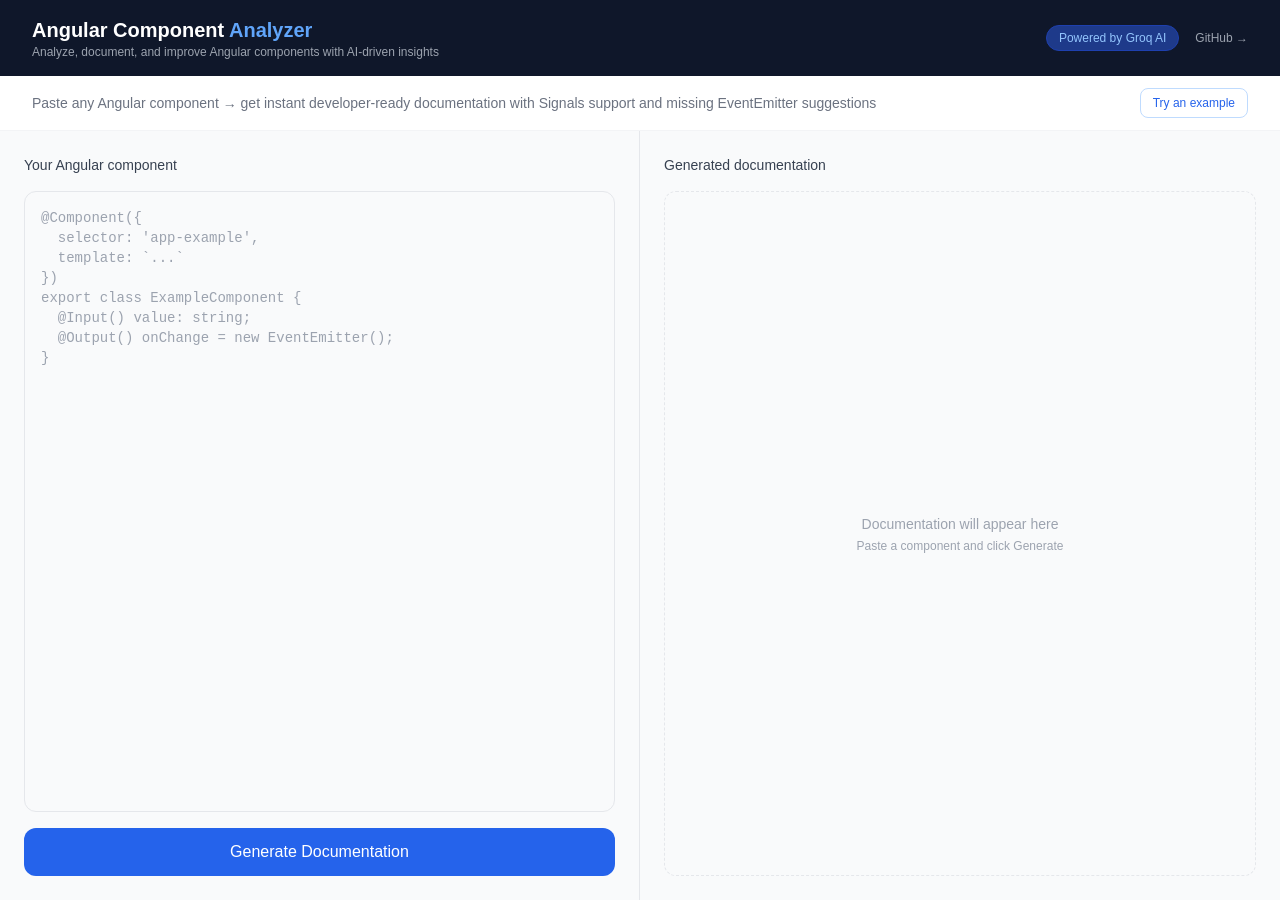
Test: Angular Component Analyzer › shows error when code is not an Angular component
Replace the text in the text box with placeholder "@Component" with "const x = 1;". click: (320, 502)
box: [24, 191, 615, 812]
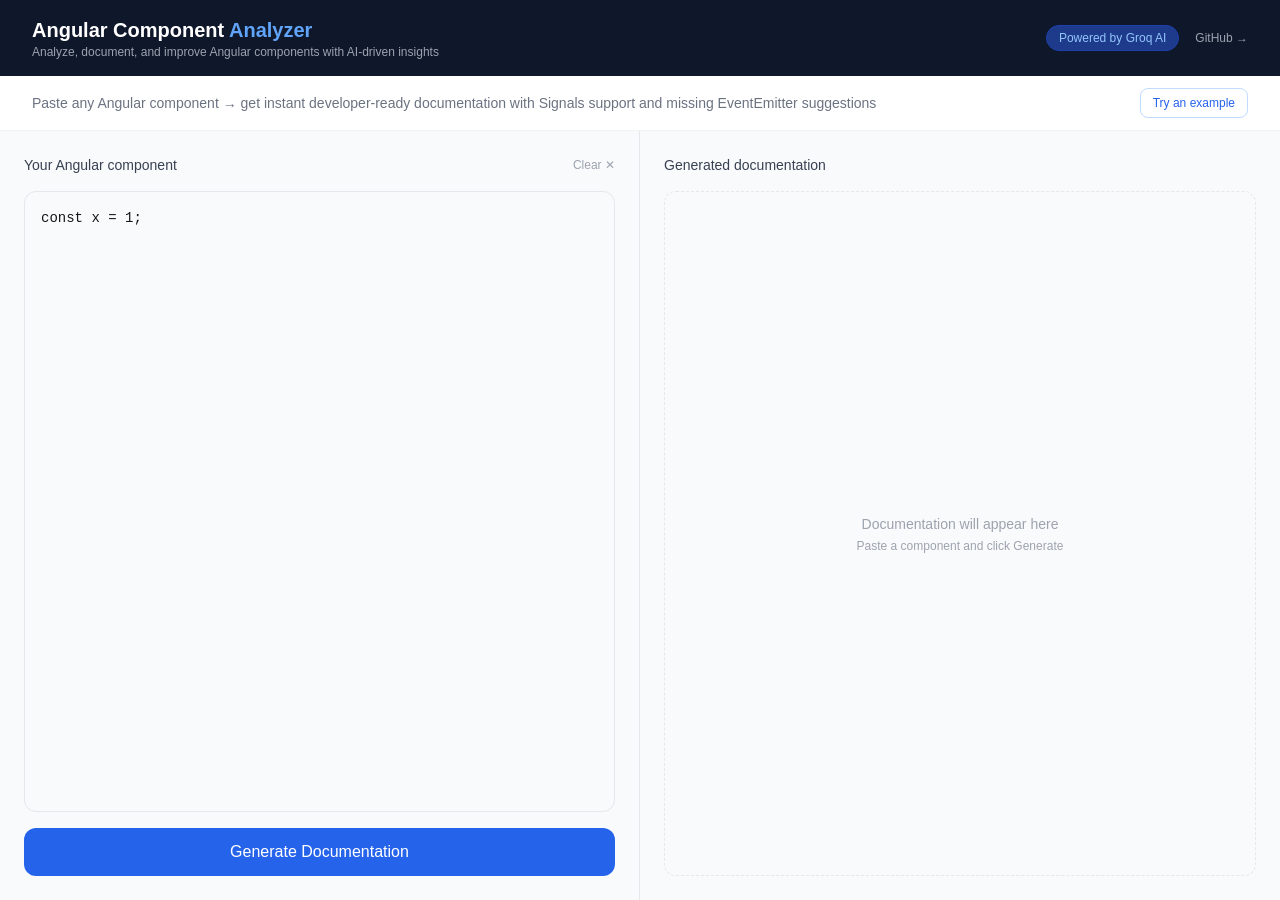
Click the button "Generate Documentation". click: click(320, 852)
box: [24, 828, 615, 876]
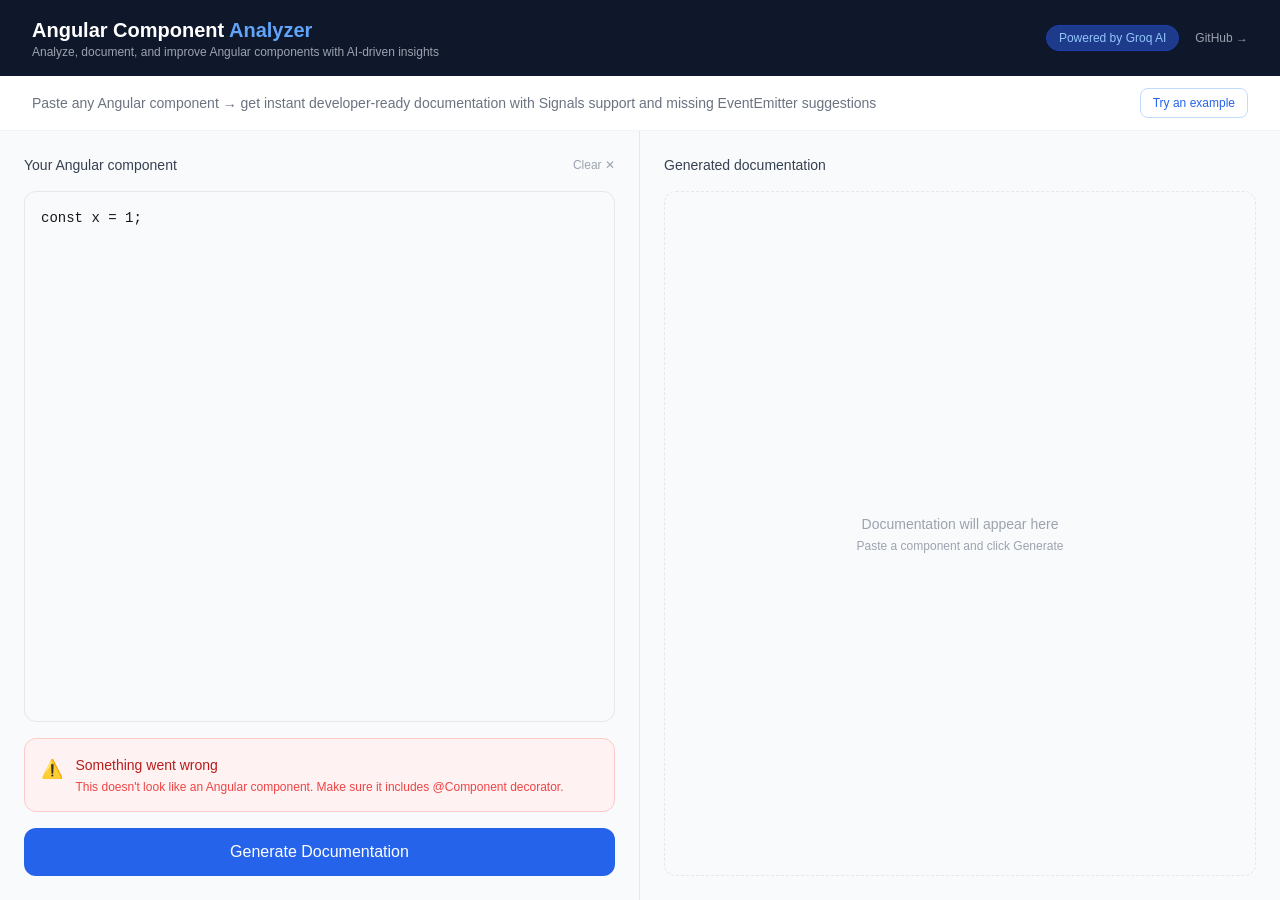
Now the text "doesn't look like an Angular component" is shown, box [76, 780, 564, 794]
